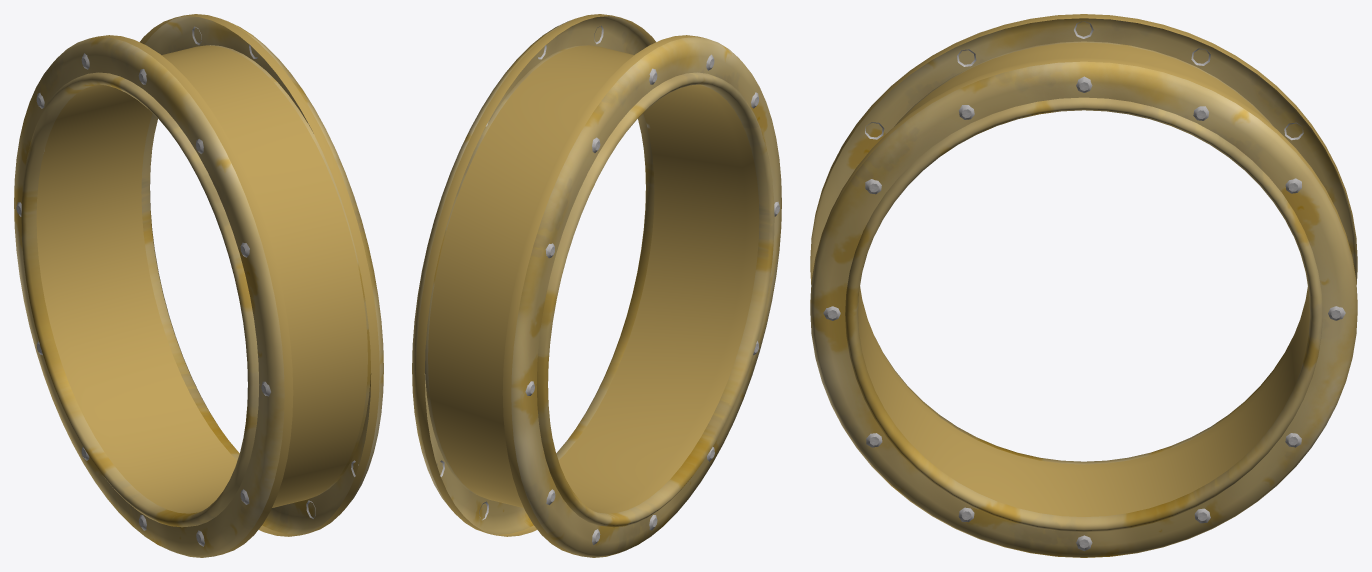
The model's file is Porthole (No Glass).FBX.
3 renders of one model, left to right at view 1: azimuth 30°, elevation 25°; view 2: azimuth 150°, elevation 25°; view 3: azimuth 270°, elevation 25°, orthographic. The views are drawn at different scales.
Parts seen in each view (by area): view 1: Porthole Glassless, Porthole Glassless001; view 2: Porthole Glassless, Porthole Glassless001; view 3: Porthole Glassless, Porthole Glassless001.
Part boxes in pixels (x1=…): Porthole Glassless: x1=49, y1=14, x2=383, y2=536; Porthole Glassless001: x1=14, y1=35, x2=293, y2=557; Porthole Glassless: x1=412, y1=14, x2=745, y2=536; Porthole Glassless001: x1=502, y1=35, x2=781, y2=557; Porthole Glassless: x1=810, y1=48, x2=1357, y2=557; Porthole Glassless001: x1=810, y1=14, x2=1357, y2=471.
Bounding box in the file's own units: 34.44 × 124 × 124.
1 material, 1 textured.
